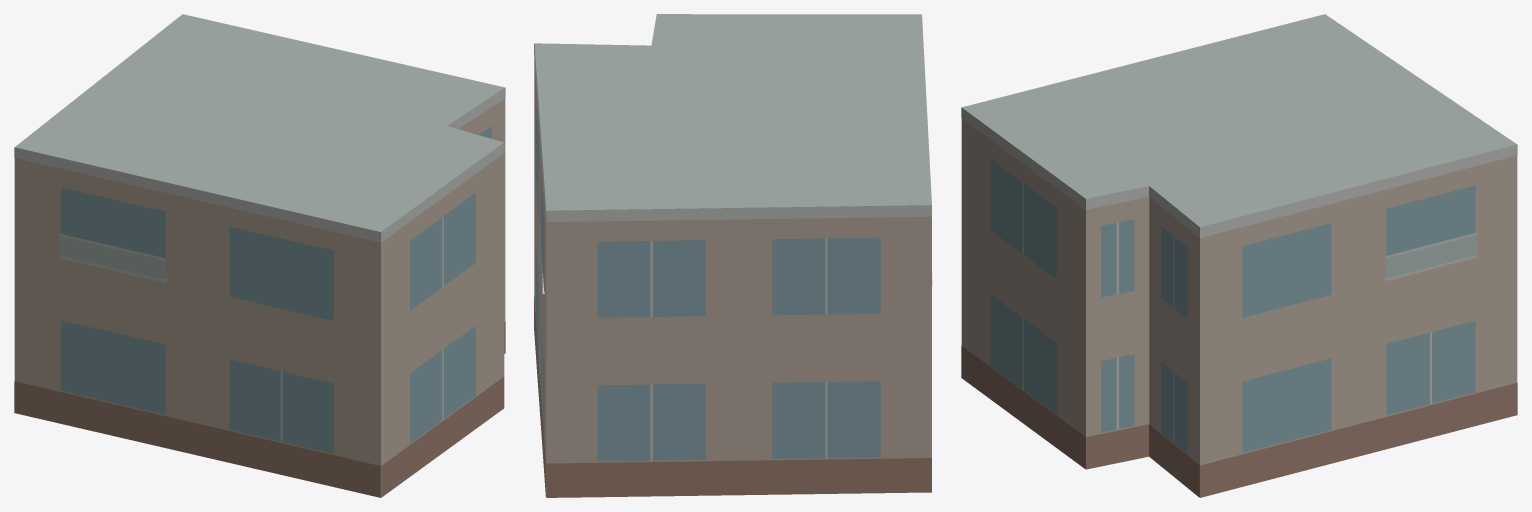
The model's file is survey-upis-32889059.glb.
3 renders of one model, left to right at view 1: azimuth 30°, elevation 25°; view 2: azimuth 150°, elevation 25°; view 3: azimuth 270°, elevation 25°, orthographic. The views are drawn at different scales.
Parts seen in each view (by area): view 1: survey-upis-32889059.tmp; view 2: survey-upis-32889059.tmp; view 3: survey-upis-32889059.tmp.
Part boxes in pixels (box(x1,y1,x2,y2)): survey-upis-32889059.tmp: box(14, 14, 505, 497); survey-upis-32889059.tmp: box(534, 14, 932, 497); survey-upis-32889059.tmp: box(961, 14, 1517, 497).
Bounding box in the file's own units: 10.32 × 6.1 × 11.37.
